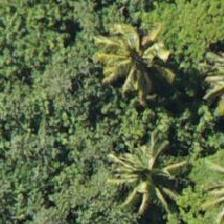coconut_tree: (88, 125, 178, 215), (97, 18, 187, 108)
